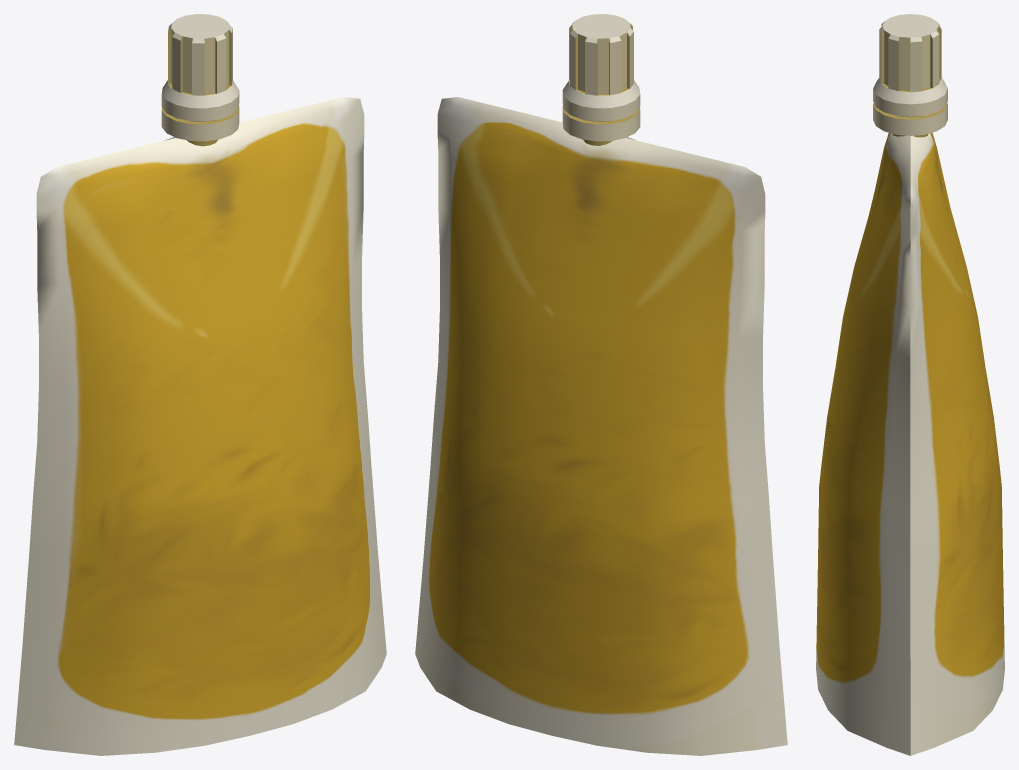
File: DASHI_STIM_002.fbx
The picture shows the model from 3 angles, left to right: view 1: azimuth 30°, elevation 25°; view 2: azimuth 150°, elevation 25°; view 3: azimuth 270°, elevation 25°; orthographic projection. The views are drawn at different scales.
Parts seen in each view (by area): view 1: DASHI; view 2: DASHI; view 3: DASHI.
Boxes of the visible parts, x1,y1,x2,y2 form: DASHI: (14, 14, 386, 755); DASHI: (415, 14, 787, 755); DASHI: (816, 14, 1004, 755).
Size of the model in its own units: 29.57 by 51.06 by 13.59.
1 material, 1 textured.
